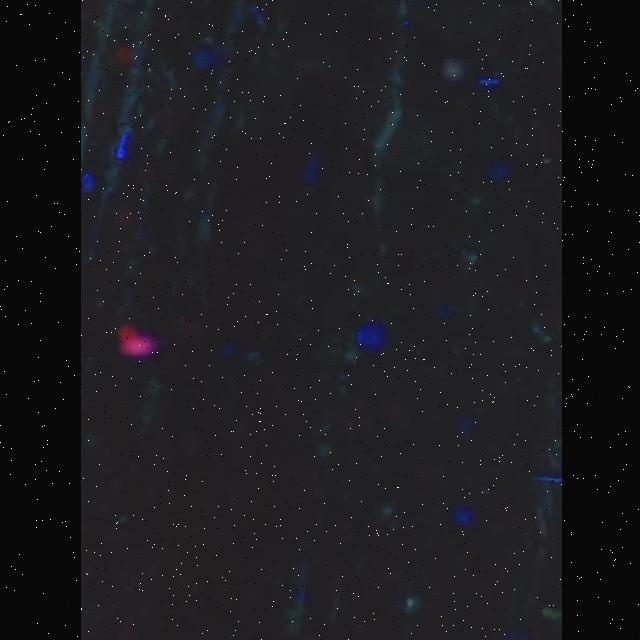microbeads: (446, 60, 462, 80)
